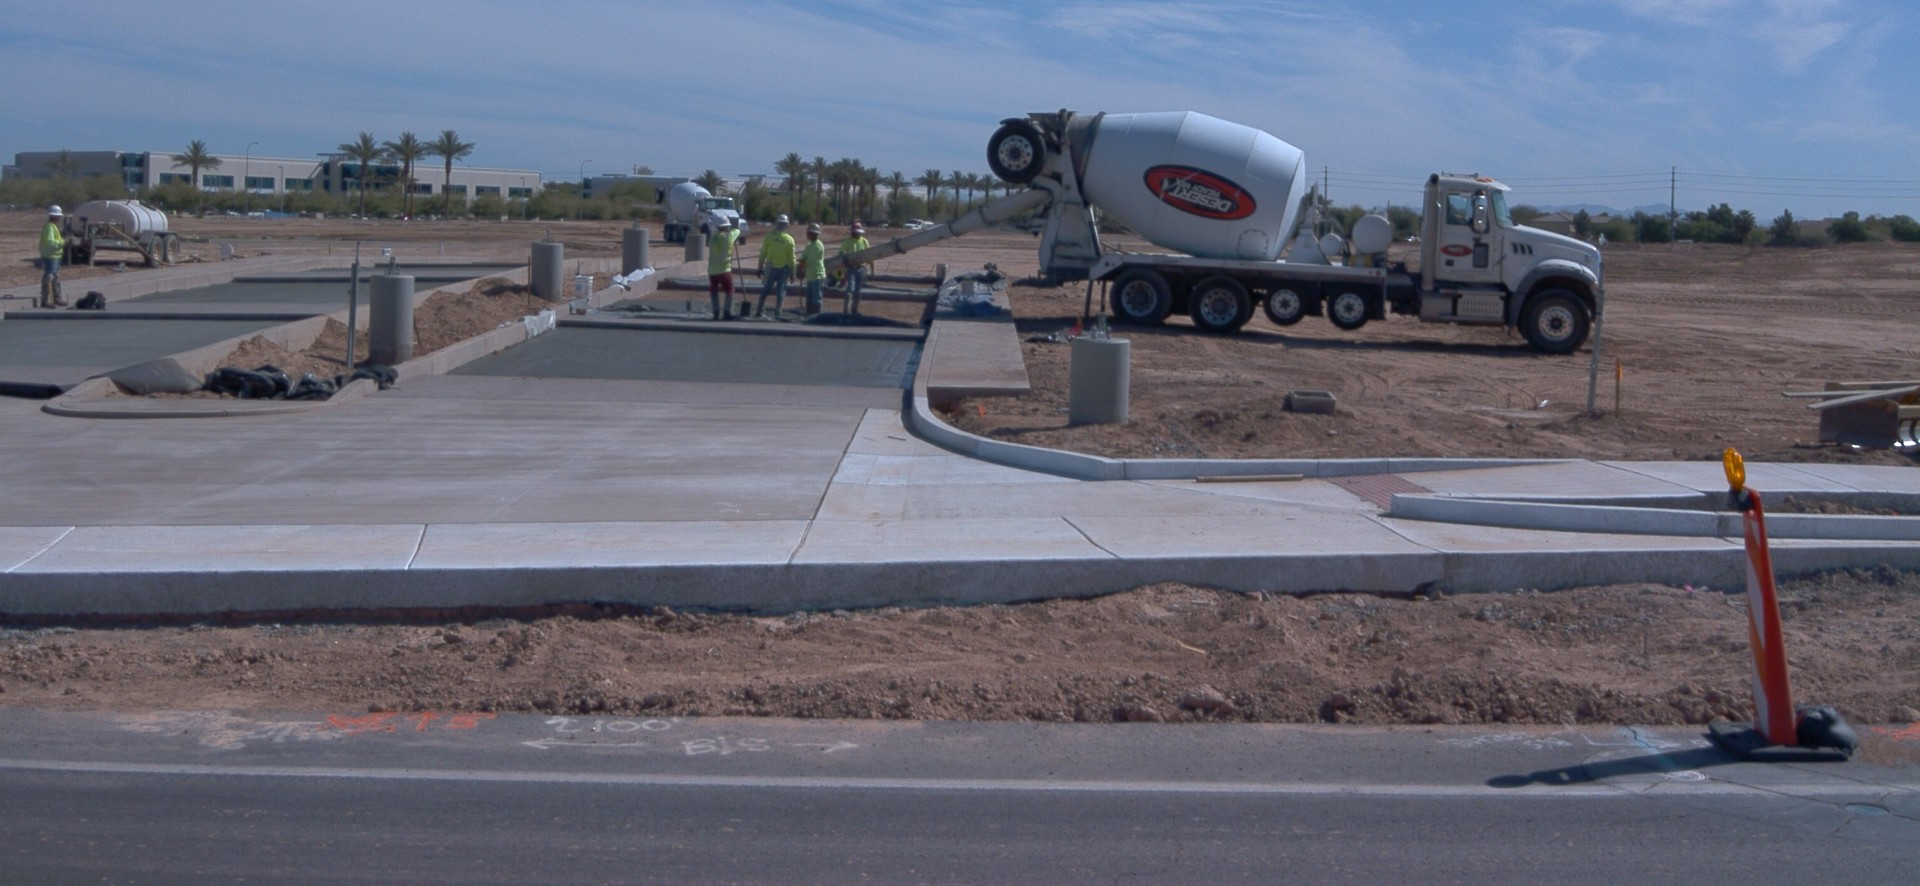TYPE_PEDESTRIAN: (748, 213, 799, 323), (703, 212, 742, 325), (837, 219, 880, 320), (37, 206, 75, 310), (797, 219, 829, 323), (826, 266, 850, 292)
TYPE_VEHICLE: (800, 106, 1605, 356), (1780, 366, 1920, 470), (61, 194, 181, 272), (654, 174, 751, 245), (902, 215, 935, 231)
